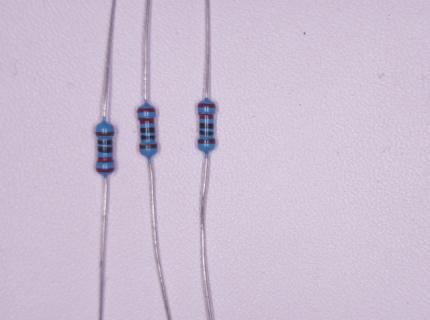Black band: (98, 147, 113, 153), (140, 127, 155, 133), (200, 123, 214, 129), (98, 140, 113, 145), (141, 135, 155, 140), (200, 131, 214, 136)
Brown band: (140, 143, 157, 149), (199, 139, 216, 144), (96, 132, 114, 136)
Red band: (97, 157, 113, 163), (138, 118, 154, 124), (198, 113, 214, 119), (137, 108, 156, 113), (197, 103, 216, 108), (96, 168, 114, 173)
